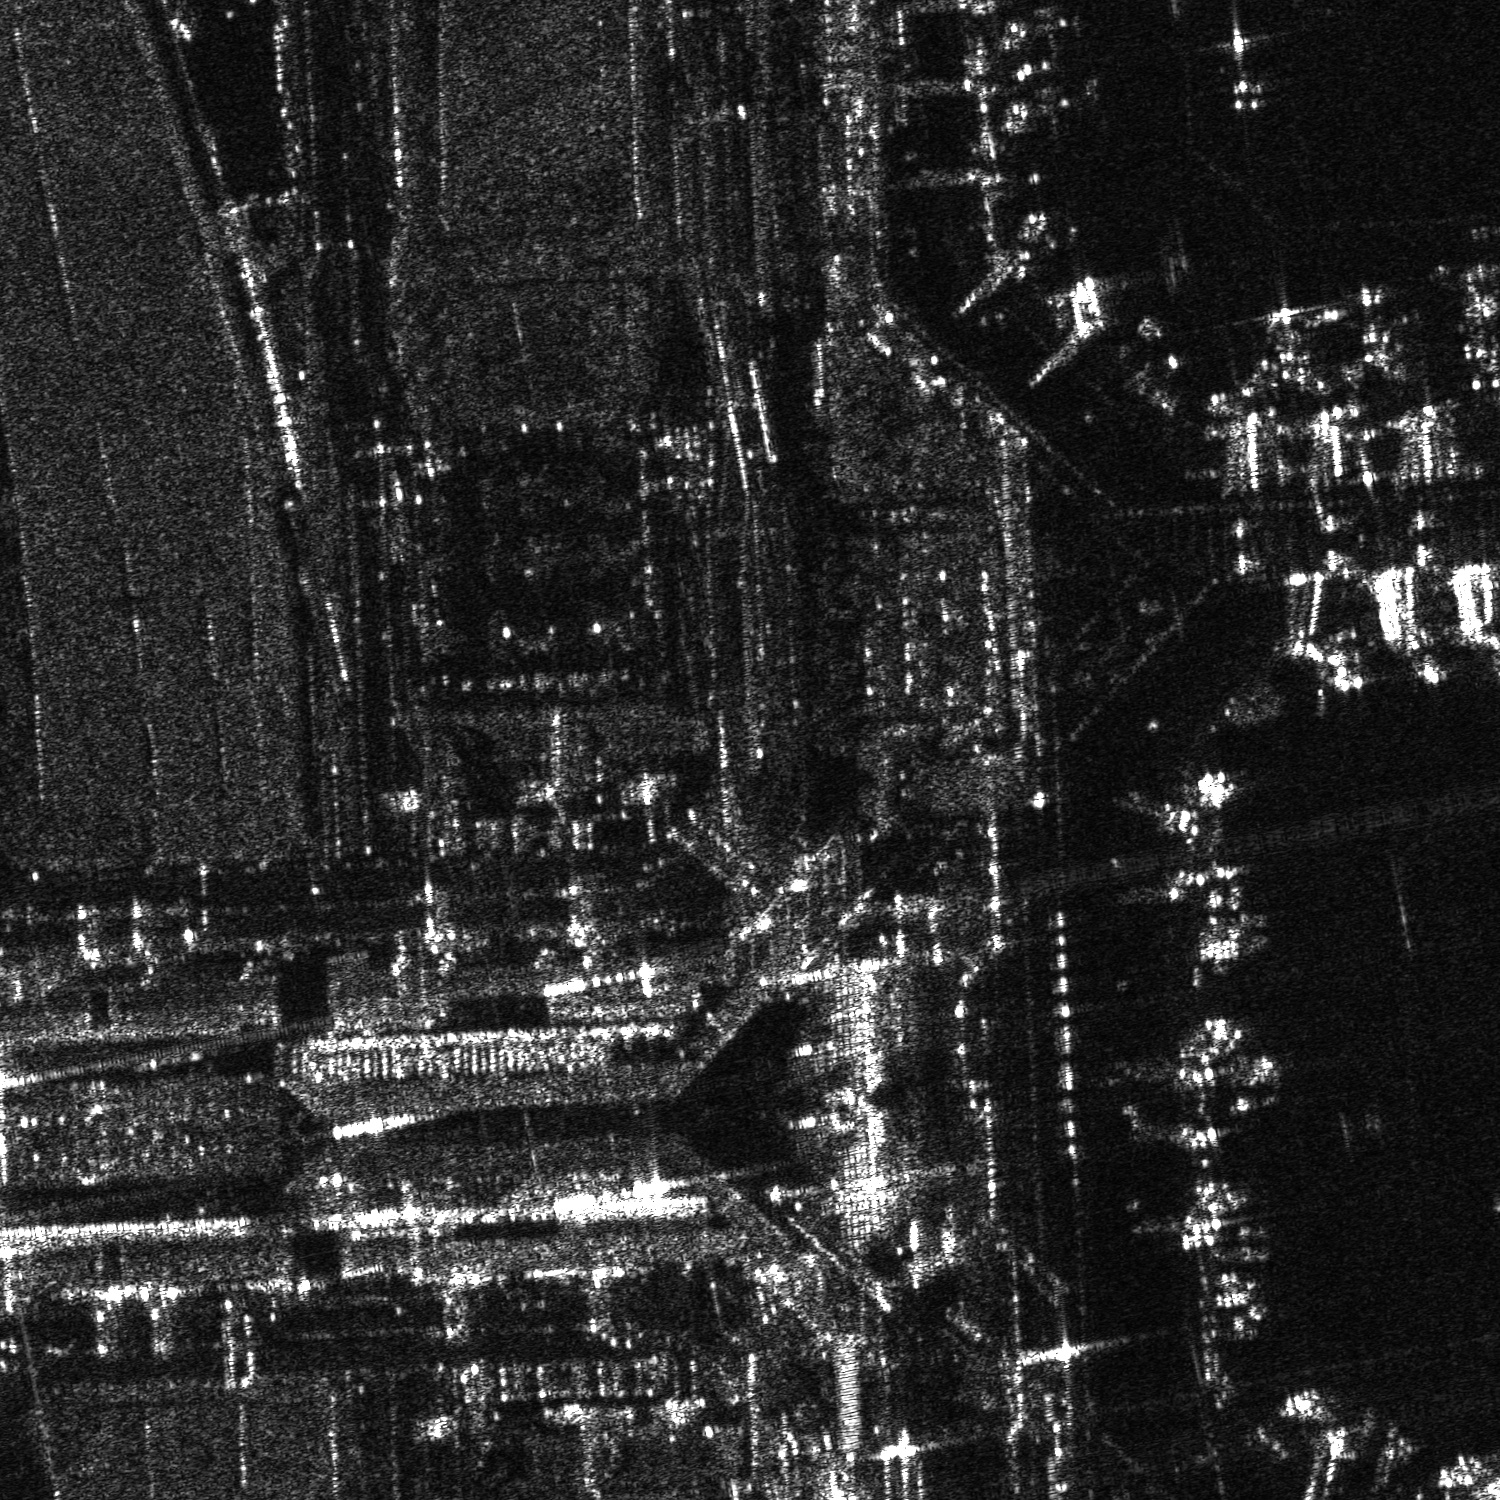A220: (1010, 73, 1113, 143), (1254, 295, 1326, 396)
A320/321: (1174, 1007, 1282, 1115), (1163, 1174, 1273, 1264), (1455, 260, 1499, 375)
Boeing737: (1216, 25, 1284, 117)
other: (1345, 282, 1408, 383)
